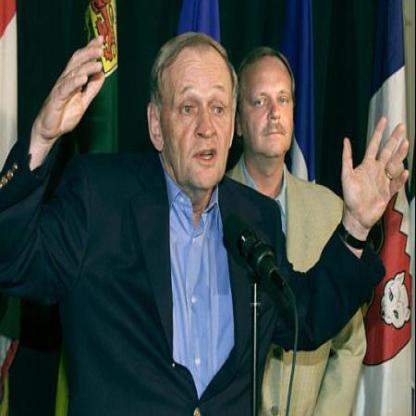face: (161, 35, 239, 194), (240, 51, 298, 161)
